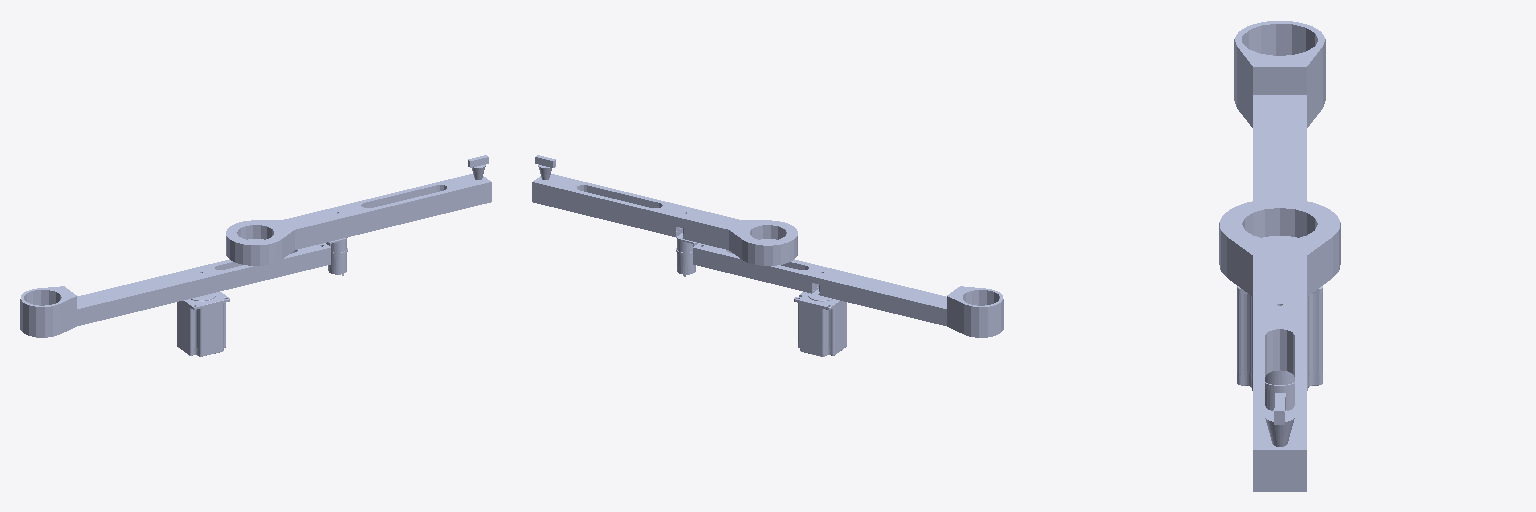
The robot description file, URDF, robot "second one":
<?xml version="1.0" encoding="utf-8"?>
<!-- This URDF was automatically created by SolidWorks to URDF Exporter! Originally created by [author] ([email redacted]) 
     Commit Version: 1.6.0-1-g15f4949  Build Version: 1.6.7594.29634
     For more information, please see http://wiki.ros.org/sw_urdf_exporter -->
<robot
  name="second one">
  <link
    name="base_link">
    <inertial>
      <origin
        xyz="-1.21438856483212E-05 -7.88297985189132E-06 0.0384433351833047"
        rpy="0 0 0" />
      <mass
        value="0.215478194166762" />
      <inertia
        ixx="8.64907439125203E-05"
        ixy="4.34963908748108E-08"
        ixz="7.77088059636832E-09"
        iyy="8.64496606679992E-05"
        iyz="4.75823502430256E-09"
        izz="9.73631709609537E-05" />
    </inertial>
    <visual>
      <origin
        xyz="0 0 0"
        rpy="0 0 0" />
      <geometry>
        <mesh
          filename="package://second one/meshes/base_link.STL" />
      </geometry>
      <material
        name="">
        <color
          rgba="0.792156862745098 0.819607843137255 0.933333333333333 1" />
      </material>
    </visual>
    <collision>
      <origin
        xyz="0 0 0"
        rpy="0 0 0" />
      <geometry>
        <mesh
          filename="package://second one/meshes/base_link.STL" />
      </geometry>
    </collision>
  </link>
  <link
    name="link_1">
    <inertial>
      <origin
        xyz="-0.0598586603355526 -6.56325443677414E-05 0.0387640948619928"
        rpy="0 0 0" />
      <mass
        value="0.40723452931124" />
      <inertia
        ixx="9.69457560839621E-05"
        ixy="2.0410980070089E-06"
        ixz="7.58756661601313E-05"
        iyy="0.00700629137057798"
        iyz="-1.56447376402253E-07"
        izz="0.00702790486605186" />
    </inertial>
    <visual>
      <origin
        xyz="0 0 0"
        rpy="0 0 0" />
      <geometry>
        <mesh
          filename="package://second one/meshes/link_1.STL" />
      </geometry>
      <material
        name="">
        <color
          rgba="0.792156862745098 0.819607843137255 0.933333333333333 1" />
      </material>
    </visual>
    <collision>
      <origin
        xyz="0 0 0"
        rpy="0 0 0" />
      <geometry>
        <mesh
          filename="package://second one/meshes/link_1.STL" />
      </geometry>
    </collision>
  </link>
  <joint
    name="join_1"
    type="continuous">
    <origin
      xyz="0 0 0.0585999999999994"
      rpy="0 0 0" />
    <parent
      link="base_link" />
    <child
      link="link_1" />
    <axis
      xyz="0 0 1" />
  </joint>
  <link
    name="link_2">
    <inertial>
      <origin
        xyz="0.00196397351335068 -0.00186487970969972 0.0145490775115699"
        rpy="0 0 0" />
      <mass
        value="0.367769527757555" />
      <inertia
        ixx="0.00011625704154743"
        ixy="-5.14813183954665E-08"
        ixz="-2.57587248907994E-05"
        iyy="0.00523054388820953"
        iyz="-1.69348714943658E-07"
        izz="0.00529038024022097" />
    </inertial>
    <visual>
      <origin
        xyz="0 0 0"
        rpy="0 0 0" />
      <geometry>
        <mesh
          filename="package://second one/meshes/link_2.STL" />
      </geometry>
      <material
        name="">
        <color
          rgba="0.792156862745098 0.819607843137255 0.933333333333333 1" />
      </material>
    </visual>
    <collision>
      <origin
        xyz="0 0 0"
        rpy="0 0 0" />
      <geometry>
        <mesh
          filename="package://second one/meshes/link_2.STL" />
      </geometry>
    </collision>
  </link>
  <joint
    name="join_2"
    type="continuous">
    <origin
      xyz="0.20874229683865 0.00179332387615486 0.0588000000000003"
      rpy="0 0 0" />
    <parent
      link="link_1" />
    <child
      link="link_2" />
    <axis
      xyz="0 0 1" />
  </joint>
  <link
    name="end_effector">
    <inertial>
      <origin
        xyz="7.61978507484162E-05 0.00364583216276968 0.0165950058588744"
        rpy="0 0 0" />
      <mass
        value="0.00560645979584246" />
      <inertia
        ixx="4.03296465449601E-07"
        ixy="2.77072447095654E-09"
        ixz="1.11417467937036E-13"
        iyy="5.25753123312374E-07"
        iyz="3.40783016494575E-13"
        izz="2.59447001769474E-07" />
    </inertial>
    <visual>
      <origin
        xyz="0 0 0"
        rpy="0 0 0" />
      <geometry>
        <mesh
          filename="package://second one/meshes/end_effector.STL" />
      </geometry>
      <material
        name="">
        <color
          rgba="0.792156862745098 0.819607843137255 0.933333333333333 1" />
      </material>
    </visual>
    <collision>
      <origin
        xyz="0 0 0"
        rpy="0 0 0" />
      <geometry>
        <mesh
          filename="package://second one/meshes/end_effector.STL" />
      </geometry>
    </collision>
  </link>
  <joint
    name="joint_3"
    type="continuous">
    <origin
      xyz="0.21593150680297 -0.00543915156978894 0.0299998999999999"
      rpy="0 0 0" />
    <parent
      link="link_2" />
    <child
      link="end_effector" />
    <axis
      xyz="0 0 -1" />
  </joint>
</robot>

--- What the picture shows (computed from the rendered views, not written in the file) ---
3 views of the same robot in one strip: view 1: azimuth 30°, elevation 25°; view 2: azimuth 150°, elevation 25°; view 3: azimuth 270°, elevation 25° (orthographic).
Model second one with 4 links and 3 joints (3 continuous), rooted at base_link, posed all joints at 0.
Links seen in each view (by area): view 1: link_1, link_2, base_link; view 2: link_1, link_2, base_link; view 3: link_2, link_1, base_link, end_effector.
Boxes of the visible links, <box> form: link_1: <box>20,237,347,337</box>; link_2: <box>226,174,491,265</box>; base_link: <box>177,292,229,356</box>; link_1: <box>676,228,1003,337</box>; link_2: <box>532,174,797,265</box>; base_link: <box>794,285,846,356</box>; link_2: <box>1219,198,1340,491</box>; link_1: <box>1234,21,1325,410</box>; base_link: <box>1237,286,1322,390</box>; end_effector: <box>1265,393,1294,446</box>.
Bounding box of the posed robot: 0.7127 × 0.0798 × 0.1774 m (x, y, z).
Meshes: 4 distinct files referenced, 4 mesh visuals loaded (4 binary STL).